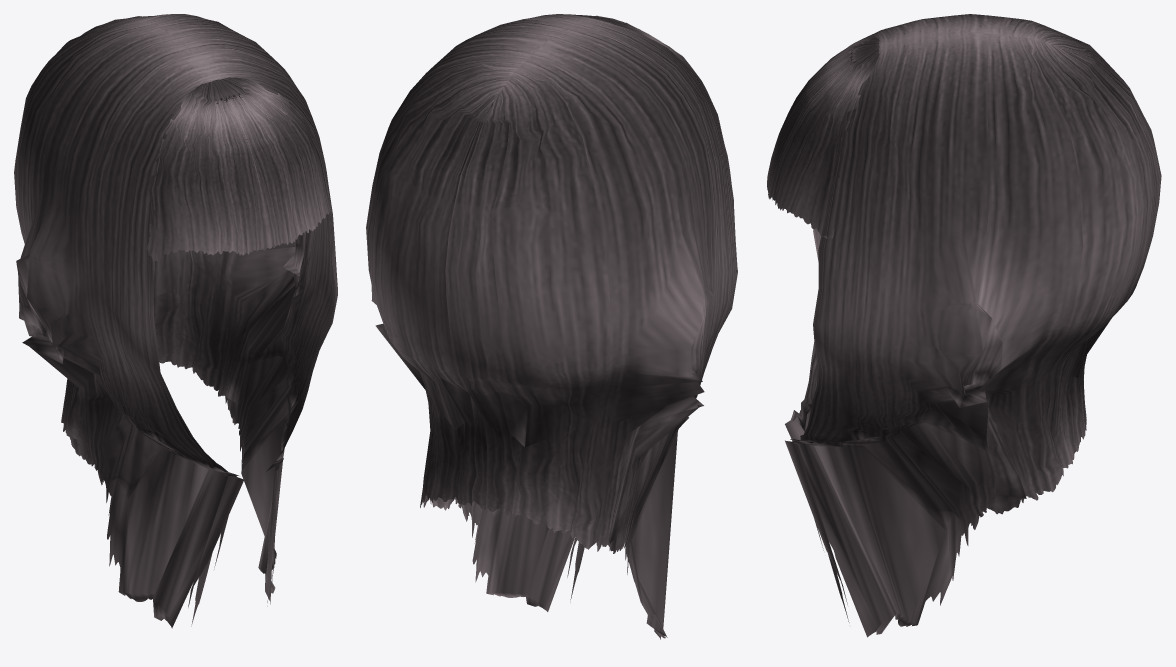
File: hair_bob02.glb
3 views of the same model, side by side, from view 1: azimuth 30°, elevation 25°; view 2: azimuth 150°, elevation 25°; view 3: azimuth 270°, elevation 25° (orthographic). The views are drawn at different scales.
Parts seen in each view (by area): view 1: hair_bob02; view 2: hair_bob02; view 3: hair_bob02.
Boxes of the visible parts, x1,y1,x2,y2 form: hair_bob02: [14, 14, 337, 628]; hair_bob02: [366, 14, 737, 639]; hair_bob02: [767, 14, 1161, 637].
Size of the model in its own units: 0.1701 by 0.3133 by 0.1865.
Materials: 1 (1 with a texture image).
